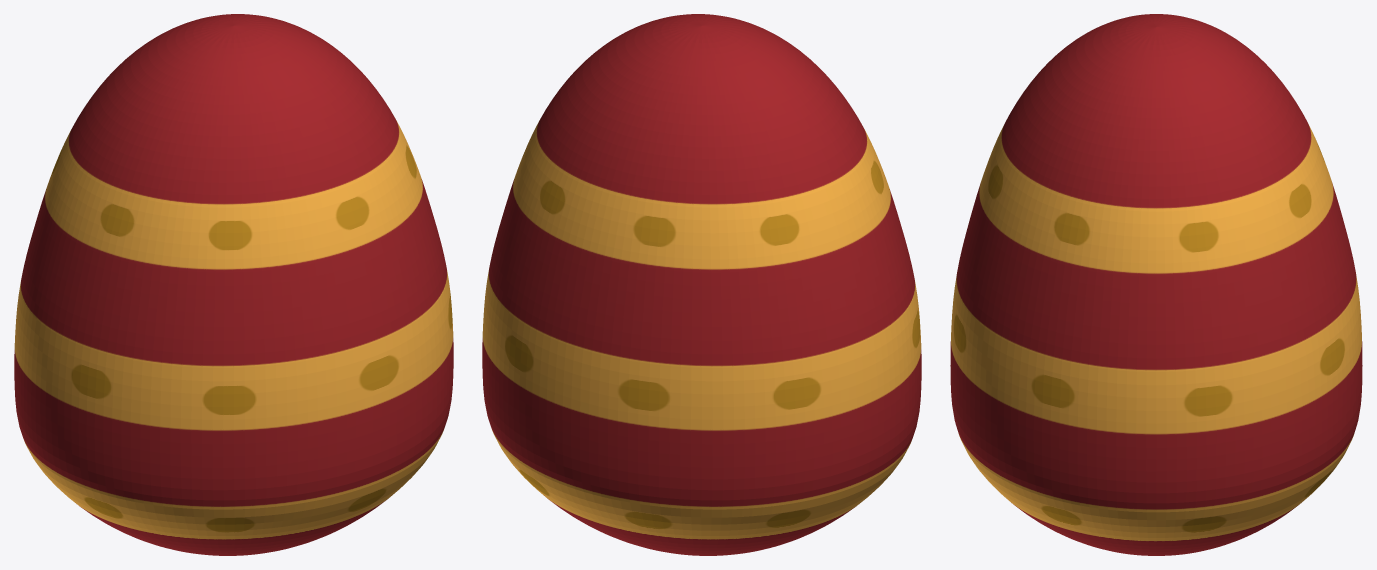
Rendered from LowOrb.fbx.
3 renders of one model, left to right at view 1: azimuth 30°, elevation 25°; view 2: azimuth 150°, elevation 25°; view 3: azimuth 270°, elevation 25°, orthographic.
Parts seen in each view (by area): view 1: Orb; view 2: Orb; view 3: Orb.
Boxes of the visible parts, x1,y1,x2,y2 form: Orb: (14,14,453,555); Orb: (482,14,921,555); Orb: (950,14,1362,555).
Bounding box in the file's own units: 222 × 279 × 206.
Materials: 1 (1 with a texture image).
